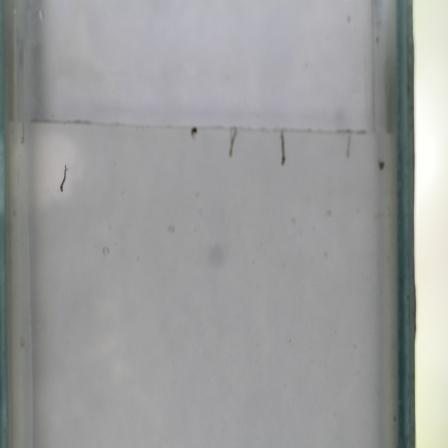Jentik-Nyamuk: (58, 160, 73, 196)
